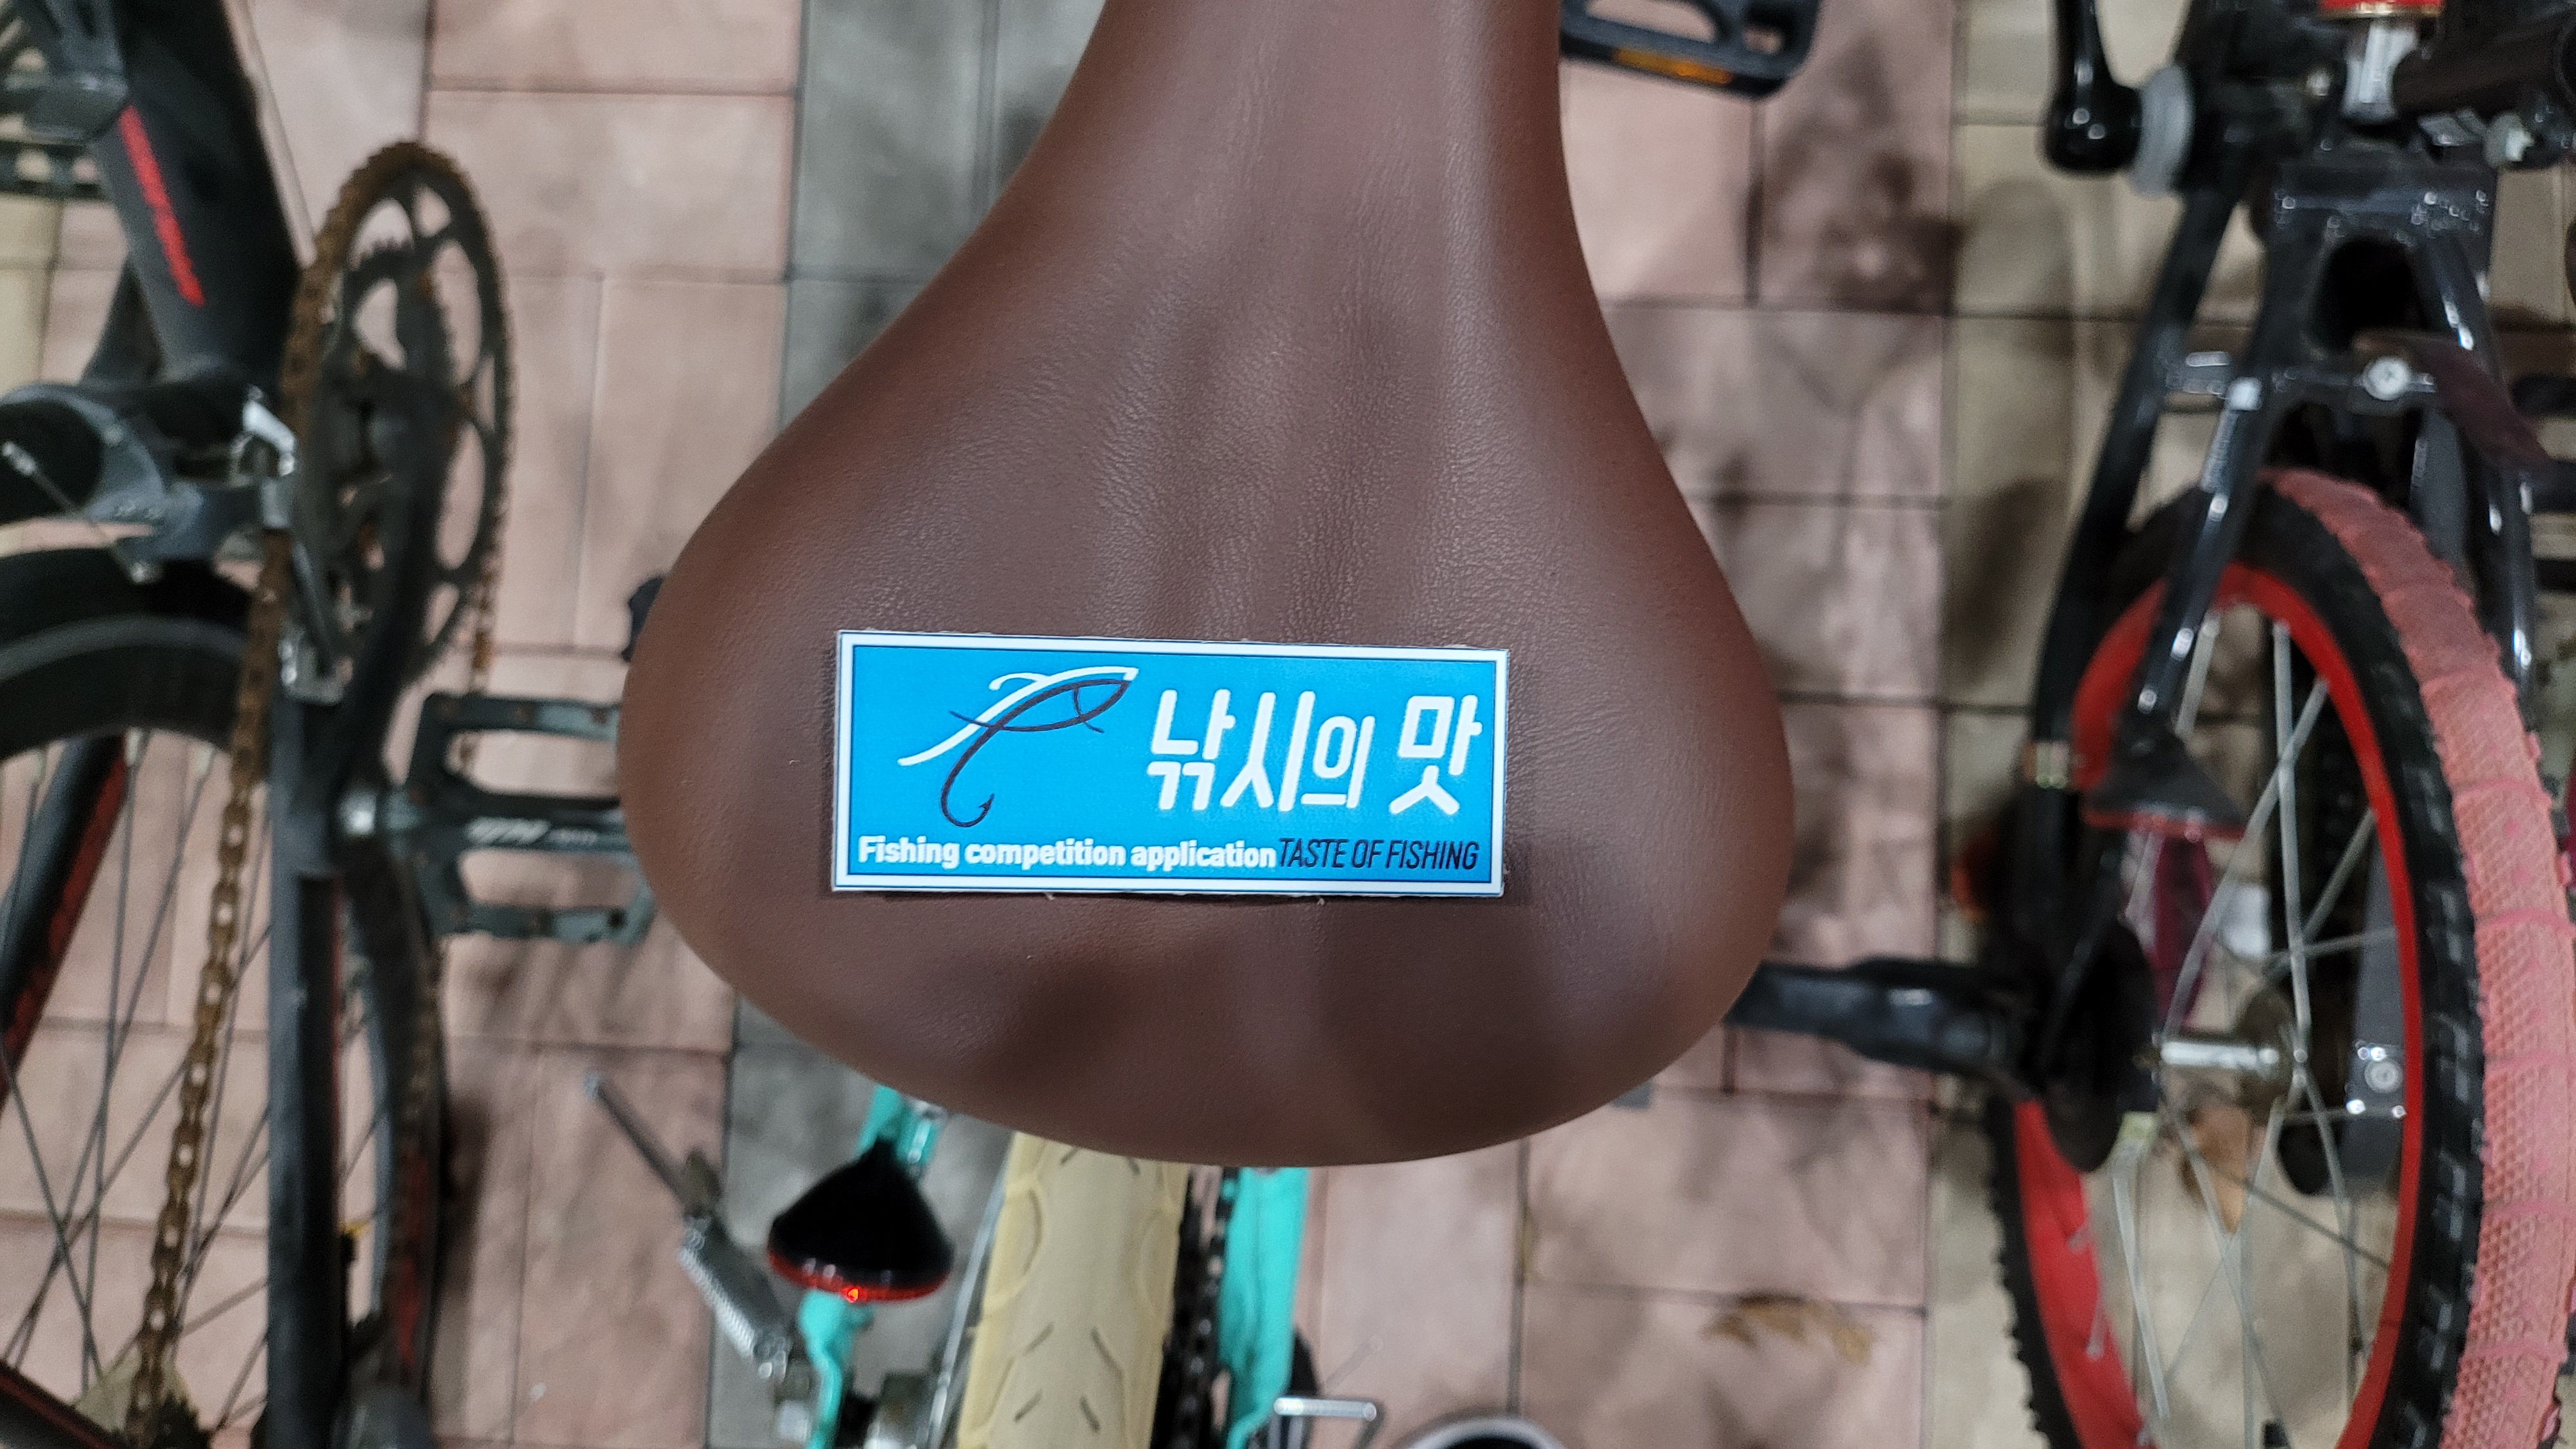tag: (835, 630, 1509, 901)
